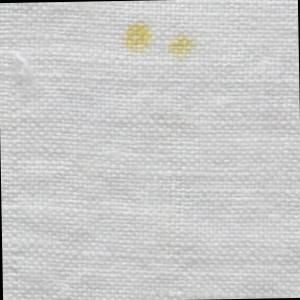Damage: (6, 51, 35, 87)
Stain: (114, 14, 206, 64)
